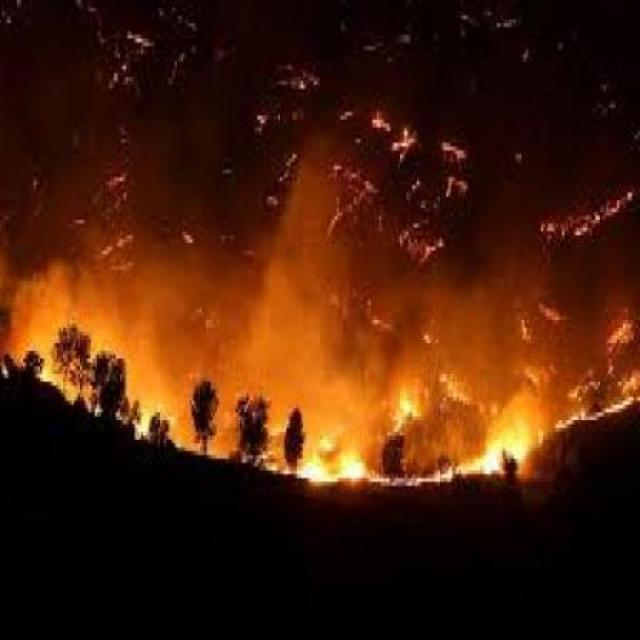Fire: (0, 296, 640, 478)
Smoke: (0, 136, 640, 292)
